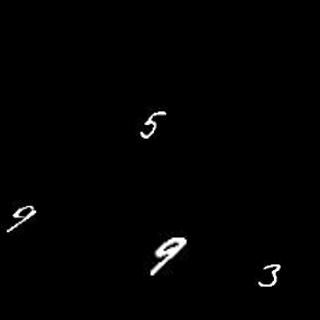five: (139, 107, 167, 142)
nine: (7, 199, 45, 236), (150, 237, 186, 275)
three: (256, 258, 285, 287)
